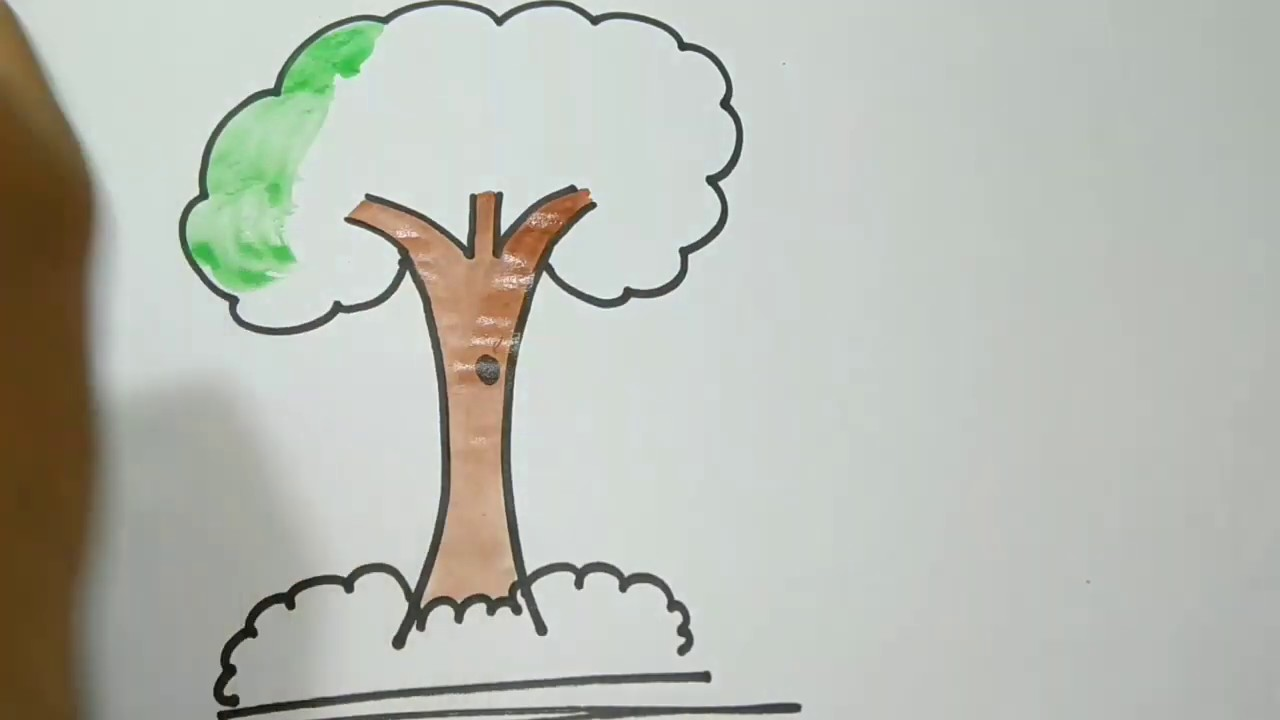tree: (139, 0, 756, 617)
